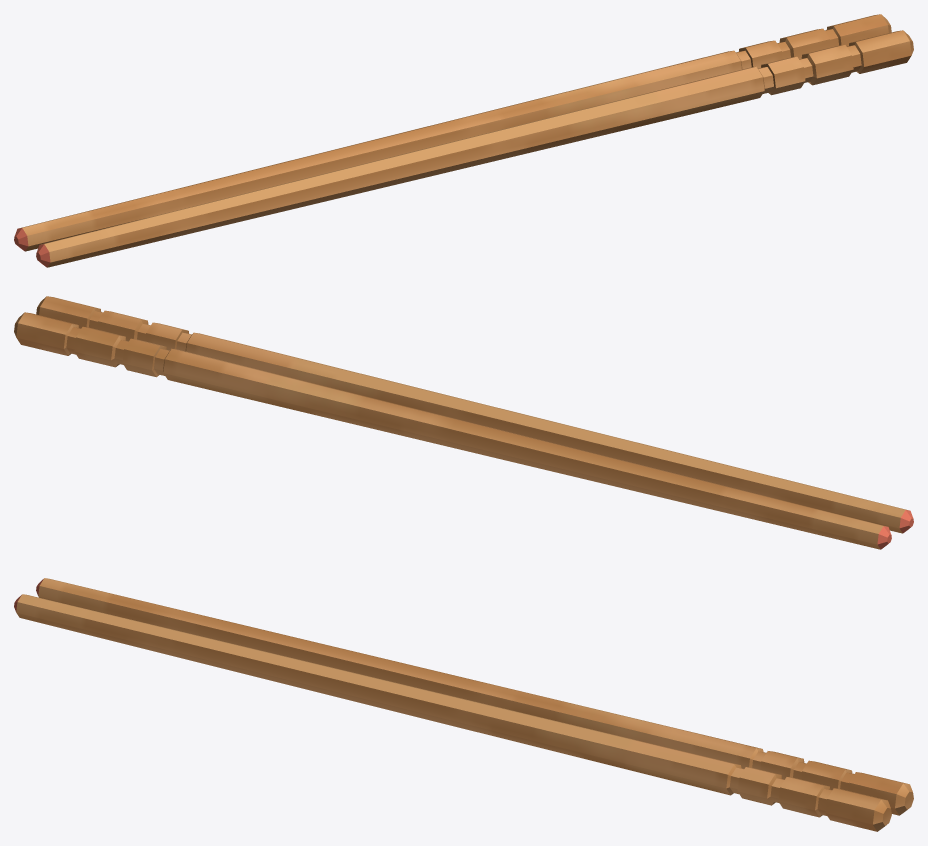
File: cutlery_b.glb
3 renders of one model, top to bottom at view 1: azimuth 30°, elevation 25°; view 2: azimuth 150°, elevation 25°; view 3: azimuth 330°, elevation 25°, orthographic.
Visible parts, largest first — view 1: body; view 2: body; view 3: body.
Part boxes in pixels (box(x1,y1,x2,y2)): body: box(14, 14, 913, 267); body: box(14, 296, 913, 549); body: box(14, 578, 913, 831).
Bounding box in the file's own units: 0.18 × 0.00587 × 0.0139.
2 materials, 1 textured.
